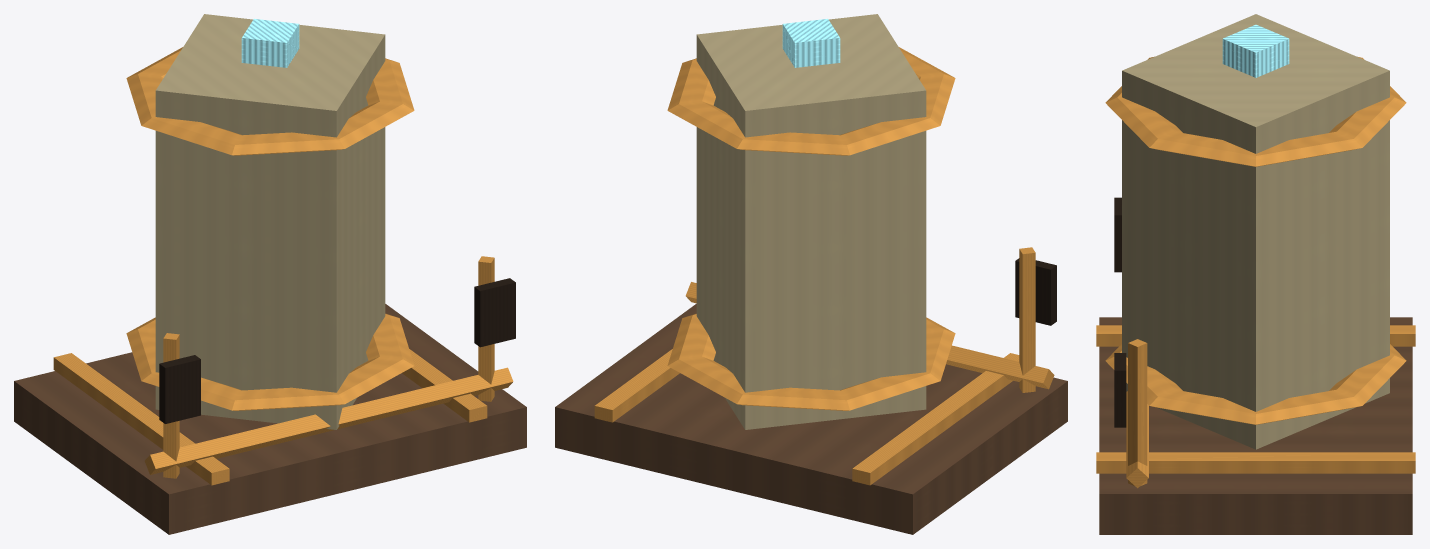
Rendered from atlas100-s012-a04.lod2.glb.
3 renders of one model, left to right at view 1: azimuth 30°, elevation 25°; view 2: azimuth 150°, elevation 25°; view 3: azimuth 270°, elevation 25°, orthographic.
Visible parts, largest first — view 1: atlas100-s012-a04:part-003, atlas100-s012-a04:part-000, atlas100-s012-a04:part-005, atlas100-s012-a04:part-004, atlas100-s012-a04:part-011, atlas100-s012-a04:part-001, atlas100-s012-a04:part-010, atlas100-s012-a04:part-008, atlas100-s012-a04:part-006, atlas100-s012-a04:part-002, atlas100-s012-a04:part-007, atlas100-s012-a04:part-009; view 2: atlas100-s012-a04:part-003, atlas100-s012-a04:part-000, atlas100-s012-a04:part-005, atlas100-s012-a04:part-004, atlas100-s012-a04:part-001, atlas100-s012-a04:part-006, atlas100-s012-a04:part-007, atlas100-s012-a04:part-002, atlas100-s012-a04:part-011, atlas100-s012-a04:part-008; view 3: atlas100-s012-a04:part-003, atlas100-s012-a04:part-000, atlas100-s012-a04:part-005, atlas100-s012-a04:part-002, atlas100-s012-a04:part-004, atlas100-s012-a04:part-006, atlas100-s012-a04:part-009, atlas100-s012-a04:part-001, atlas100-s012-a04:part-010, atlas100-s012-a04:part-011, atlas100-s012-a04:part-008.
Boxes of the visible parts, x1,y1,x2,y2 form: atlas100-s012-a04:part-003: [155, 14, 385, 429]; atlas100-s012-a04:part-000: [14, 304, 526, 534]; atlas100-s012-a04:part-005: [126, 47, 414, 155]; atlas100-s012-a04:part-004: [126, 313, 414, 410]; atlas100-s012-a04:part-011: [144, 367, 513, 474]; atlas100-s012-a04:part-001: [53, 353, 229, 485]; atlas100-s012-a04:part-010: [474, 278, 515, 347]; atlas100-s012-a04:part-008: [159, 355, 200, 423]; atlas100-s012-a04:part-006: [241, 18, 299, 67]; atlas100-s012-a04:part-002: [402, 349, 487, 422]; atlas100-s012-a04:part-007: [163, 333, 179, 478]; atlas100-s012-a04:part-009: [478, 256, 494, 401]; atlas100-s012-a04:part-003: [696, 14, 926, 429]; atlas100-s012-a04:part-000: [555, 304, 1067, 534]; atlas100-s012-a04:part-005: [667, 47, 955, 155]; atlas100-s012-a04:part-004: [667, 313, 955, 410]; atlas100-s012-a04:part-001: [852, 353, 1019, 485]; atlas100-s012-a04:part-006: [782, 18, 840, 67]; atlas100-s012-a04:part-007: [1019, 247, 1035, 392]; atlas100-s012-a04:part-002: [594, 349, 679, 422]; atlas100-s012-a04:part-011: [685, 282, 1054, 389]; atlas100-s012-a04:part-008: [1015, 258, 1056, 325]; atlas100-s012-a04:part-003: [1122, 14, 1389, 449]; atlas100-s012-a04:part-000: [1099, 317, 1412, 534]; atlas100-s012-a04:part-005: [1105, 56, 1406, 166]; atlas100-s012-a04:part-002: [1096, 452, 1415, 473]; atlas100-s012-a04:part-004: [1105, 344, 1406, 424]; atlas100-s012-a04:part-006: [1222, 24, 1289, 77]; atlas100-s012-a04:part-009: [1128, 339, 1147, 485]; atlas100-s012-a04:part-001: [1096, 325, 1415, 346]; atlas100-s012-a04:part-010: [1114, 353, 1126, 427]; atlas100-s012-a04:part-011: [1126, 391, 1148, 488]; atlas100-s012-a04:part-008: [1114, 197, 1121, 272].
Bounding box in the file's own units: 2.4 × 2.59 × 1.84.
5 materials, 5 textured.
